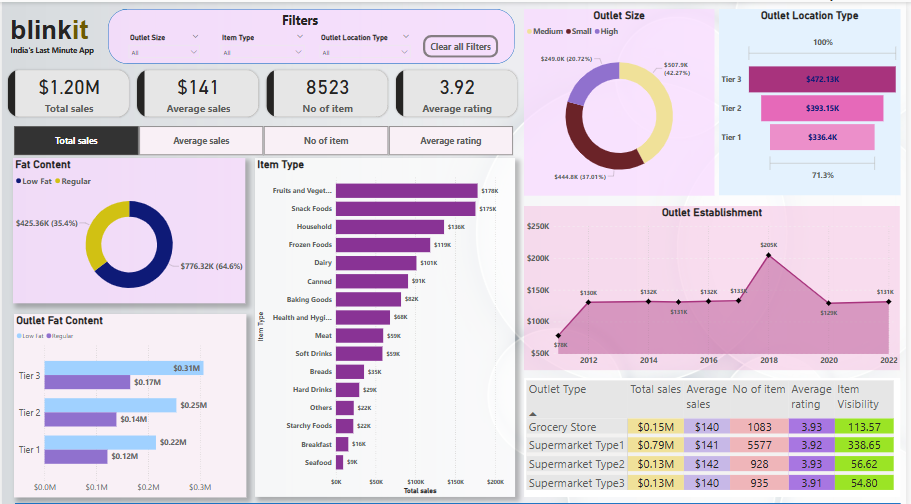

This screenshot's page, from the dashboard's own definition file:
{"tool":"powerbi","page":{"name":"Home","canvas":[1920,1080],"ordinal":0},"visuals":[{"type":"shape","box":[225,15,865,116.7],"z":0},{"type":"donutChart","title":"Outlet Size","fields":{"Category":["BlinkIT Grocery Data.Outlet Size"],"Y":["Key Measure.Total sales"]},"box":[1110,15,405,396.7],"z":1000},{"type":"funnel","title":"Outlet Location Type","fields":{"Category":["BlinkIT Grocery Data.Outlet Location Type"],"Y":["Key Measure.Total sales"]},"box":[1524.3,15.7,385.7,395.7],"z":2000},{"type":"cardVisual","fields":{"Data":["Key Measure.Total sales","Key Measure.Average sales","Key Measure.No of item","Key Measure.Average rating"]},"box":[0,131.7,1110,125],"z":3000},{"type":"slicer","fields":{"Values":["Key Metrics.Key Metrics"]},"box":[0,256.7,1110,75],"z":4000},{"type":"donutChart","title":"Fat Content","fields":{"Y":["Key Measure.Total sales"],"Category":["BlinkIT Grocery Data.Item Fat Content"]},"box":[23.7,332.3,494,309.3],"z":5000},{"type":"lineChart","title":"Outlet Establishment","fields":{"Category":["BlinkIT Grocery Data.Outlet Establishment Year"],"Y":["Key Measure.Total sales"]},"box":[1109.8,433.7,799.4,348.7],"z":6000},{"type":"clusteredBarChart","title":" Outlet Fat Content","fields":{"Y":["Key Measure.Total sales"],"Category":["BlinkIT Grocery Data.Outlet Location Type"],"Series":["BlinkIT Grocery Data.Item Fat Content"]},"box":[26.1,662.4,494,389.9],"z":7000},{"type":"pivotTable","fields":{"Rows":["BlinkIT Grocery Data.Outlet Type"],"Values":["Key Measure.Total sales","Key Measure.Average sales","Key Measure.No of item","Key Measure.Average rating","Sum(BlinkIT Grocery Data.Item Visibility)"]},"box":[1110,798.9,800,253.3],"z":8000},{"type":"barChart","title":"Item Type","fields":{"Y":["Key Measure.Total sales"],"Category":["BlinkIT Grocery Data.Item Type"]},"box":[537.4,332.3,553.3,720],"z":9000},{"type":"textbox","box":[13.3,21.7,201.7,98.3],"z":10000},{"type":"slicer","fields":{"Values":["BlinkIT Grocery Data.Outlet Size"]},"box":[258.6,61.4,171.4,70],"z":11000},{"type":"slicer","fields":{"Values":["BlinkIT Grocery Data.Item Type"]},"box":[455,61.7,198.3,68.3],"z":12000},{"type":"slicer","fields":{"Values":["BlinkIT Grocery Data.Outlet Location Type"]},"box":[665,61.7,213.3,66.7],"z":13000},{"type":"actionButton","box":[895,70,160,48.3],"z":14000},{"type":"textbox","box":[584.3,15.7,97.1,45.7],"z":15000},{"type":"shape","box":[26.7,1052.2,1883.3,27.8],"z":15001}]}

Visuals, with their boxes in screenshot pixels (x1, y1, x2, y2), scaled from the page's 1920x1080 canvas onto the 911x504 screenshot:
shape: bbox=(107, 7, 517, 61)
"Outlet Size" donutChart: bbox=(527, 7, 719, 192)
"Outlet Location Type" funnel: bbox=(723, 7, 906, 192)
cardVisual - Key Measure.Total sales x Key Measure.Average sales: bbox=(0, 61, 527, 120)
slicer - Key Metrics.Key Metrics: bbox=(0, 120, 527, 155)
"Fat Content" donutChart: bbox=(11, 155, 246, 299)
"Outlet Establishment" lineChart: bbox=(527, 202, 906, 365)
" Outlet Fat Content" clusteredBarChart: bbox=(12, 309, 247, 491)
pivotTable - BlinkIT Grocery Data.Outlet Type x Key Measure.Total sales: bbox=(527, 373, 906, 491)
"Item Type" barChart: bbox=(255, 155, 518, 491)
textbox: bbox=(6, 10, 102, 56)
slicer - BlinkIT Grocery Data.Outlet Size: bbox=(123, 29, 204, 61)
slicer - BlinkIT Grocery Data.Item Type: bbox=(216, 29, 310, 61)
slicer - BlinkIT Grocery Data.Outlet Location Type: bbox=(316, 29, 417, 60)
actionButton: bbox=(425, 33, 501, 55)
textbox: bbox=(277, 7, 323, 29)
shape: bbox=(13, 491, 906, 503)
